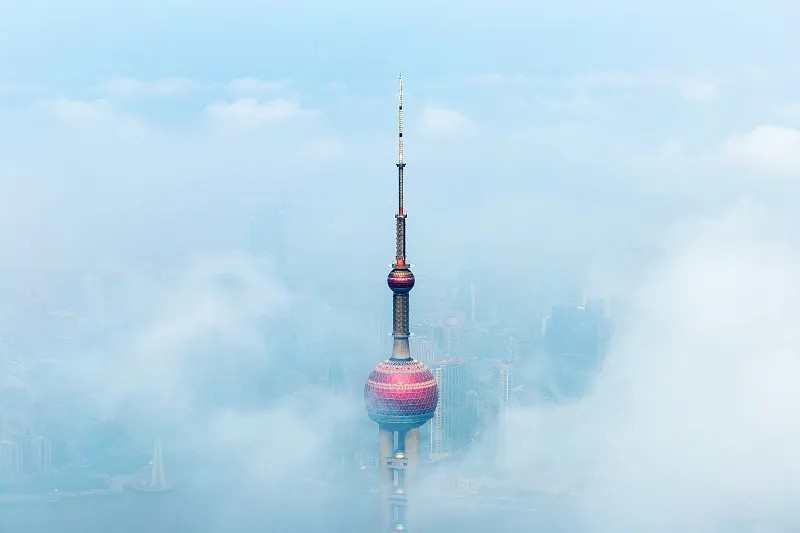Oriental: (363, 74, 439, 533)
